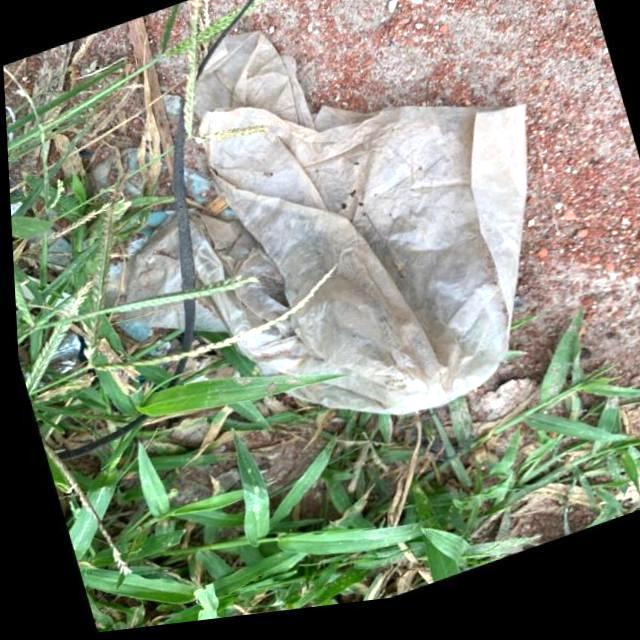polythene: (196, 105, 478, 399)
